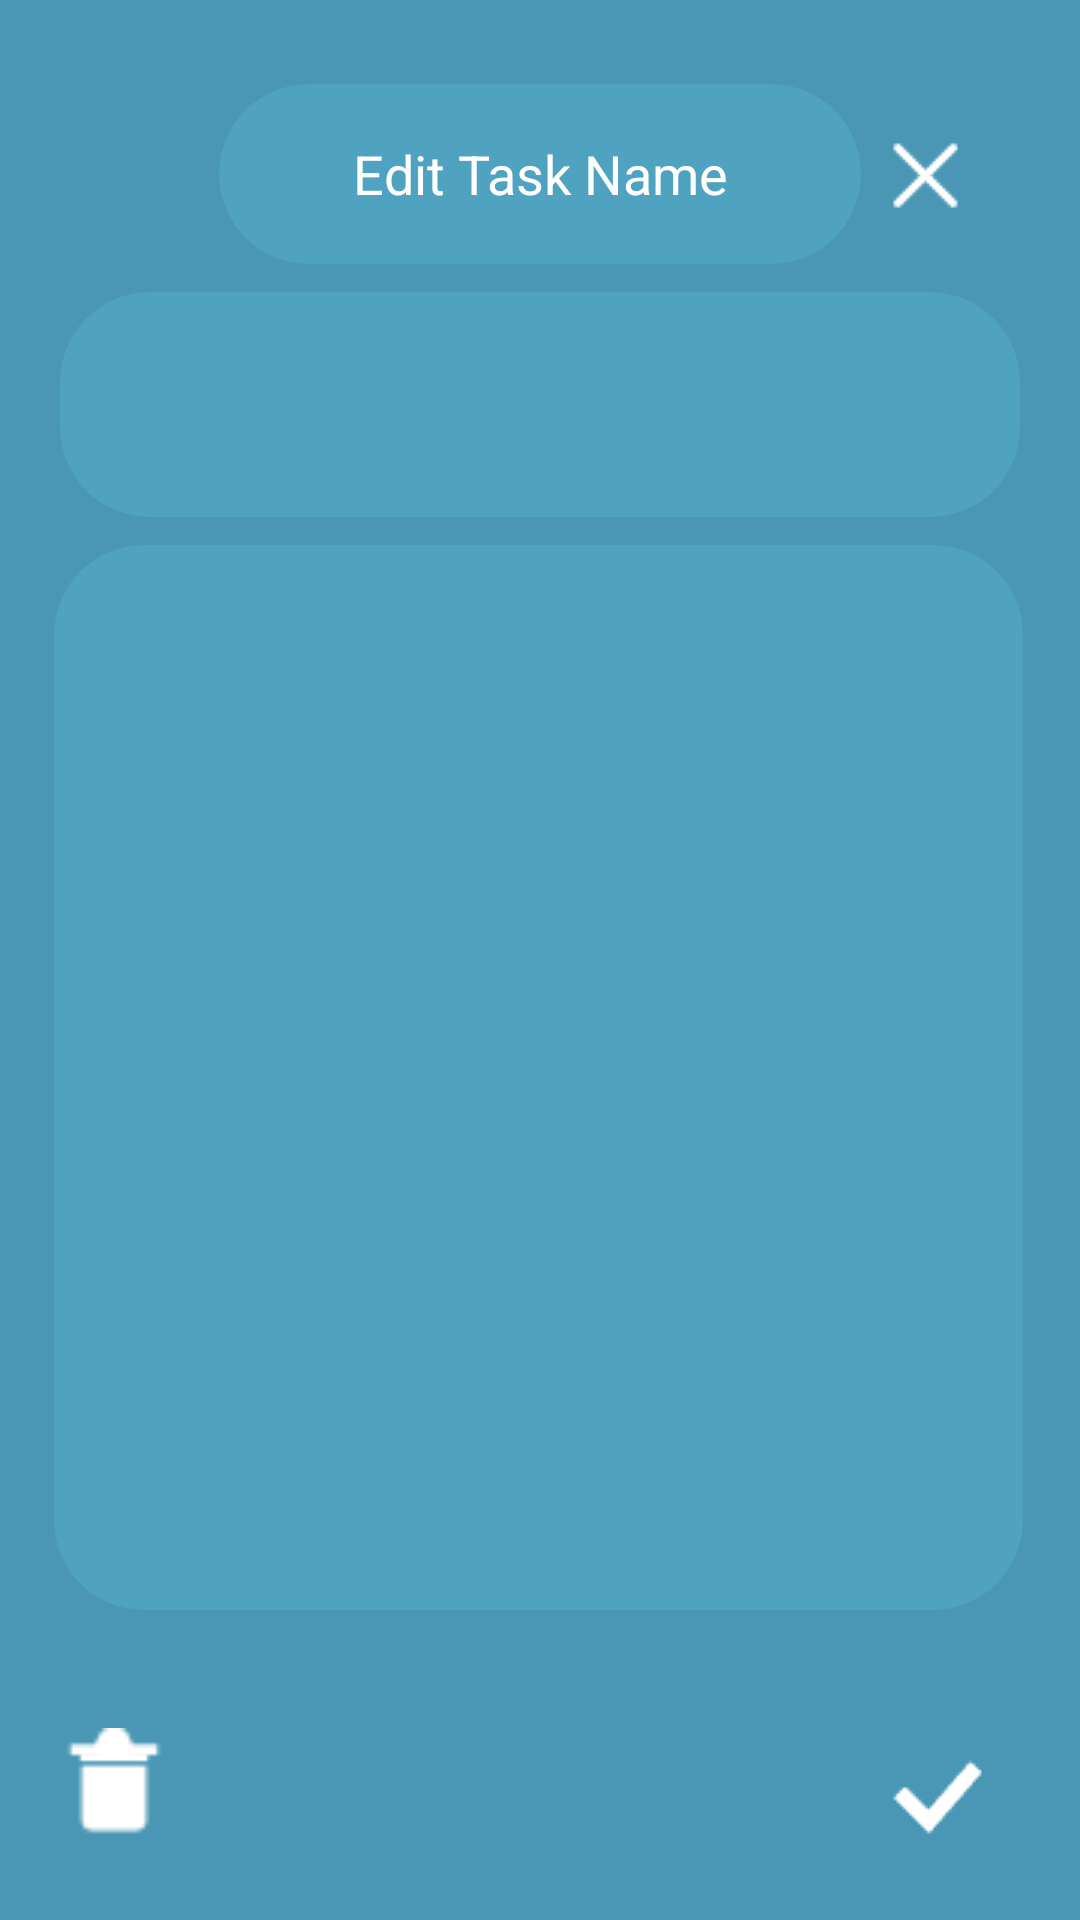

Point at icon controls on the screen. Image size 1080×1920, points as (x=x, y=y).
checkmark: (x=937, y=1797)
trash: (x=114, y=1780)
